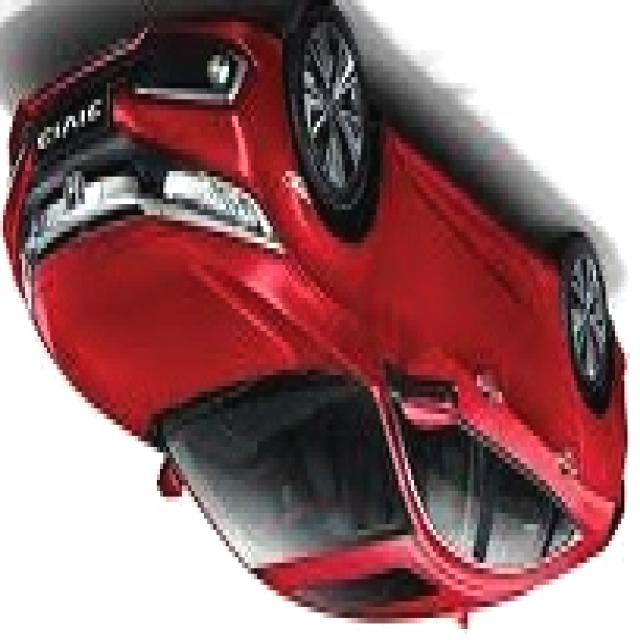red: (8, 42, 624, 639)
